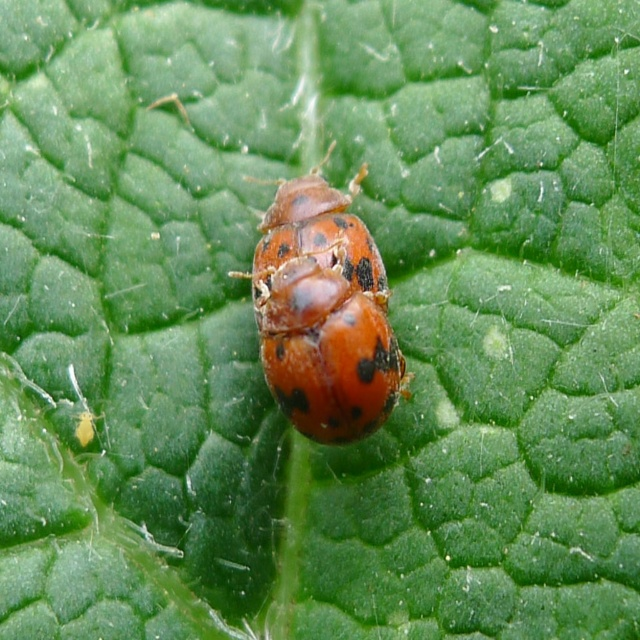Ladybug: (226, 139, 416, 448)
